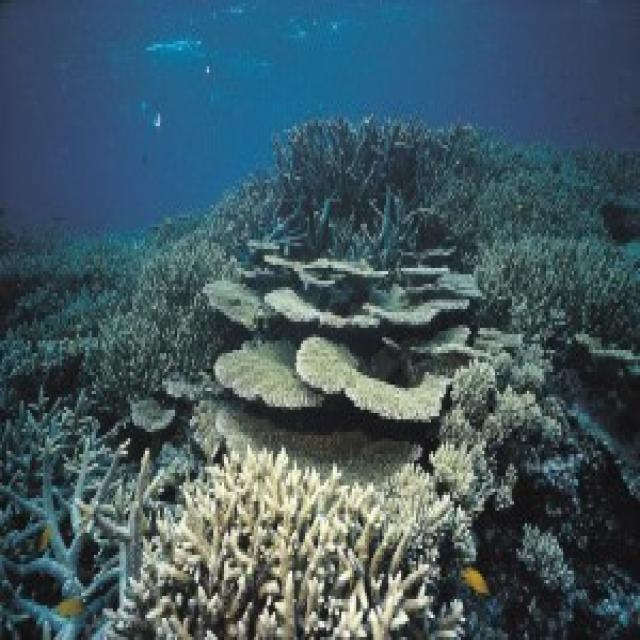Bleached: (116, 452, 434, 638), (1, 392, 163, 638), (208, 401, 432, 518), (97, 219, 236, 392), (298, 341, 447, 417), (428, 364, 494, 531), (216, 341, 323, 408)
Healthy: (440, 348, 639, 638), (276, 121, 451, 266), (234, 244, 481, 326), (481, 237, 639, 338)
